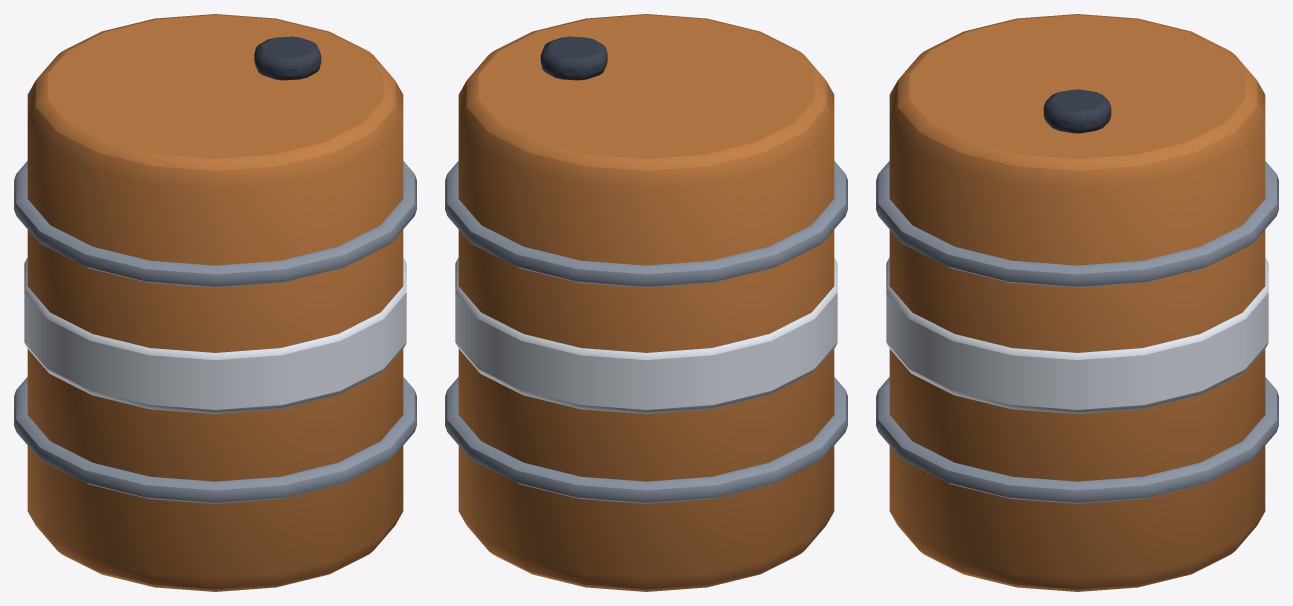
File: ware_tholinharz.fbx
3 renders of one model, left to right at view 1: azimuth 30°, elevation 25°; view 2: azimuth 150°, elevation 25°; view 3: azimuth 270°, elevation 25°, orthographic.
Parts seen in each view (by area): view 1: ware_tholinharz_Koerper; view 2: ware_tholinharz_Koerper; view 3: ware_tholinharz_Koerper.
Part boxes in pixels (left/top/right/bottom): ware_tholinharz_Koerper: left=14, top=14, right=416, bottom=591; ware_tholinharz_Koerper: left=445, top=14, right=847, bottom=591; ware_tholinharz_Koerper: left=876, top=14, right=1278, bottom=591.
Size of the model in its own units: 0.3432 by 0.42 by 0.338.
